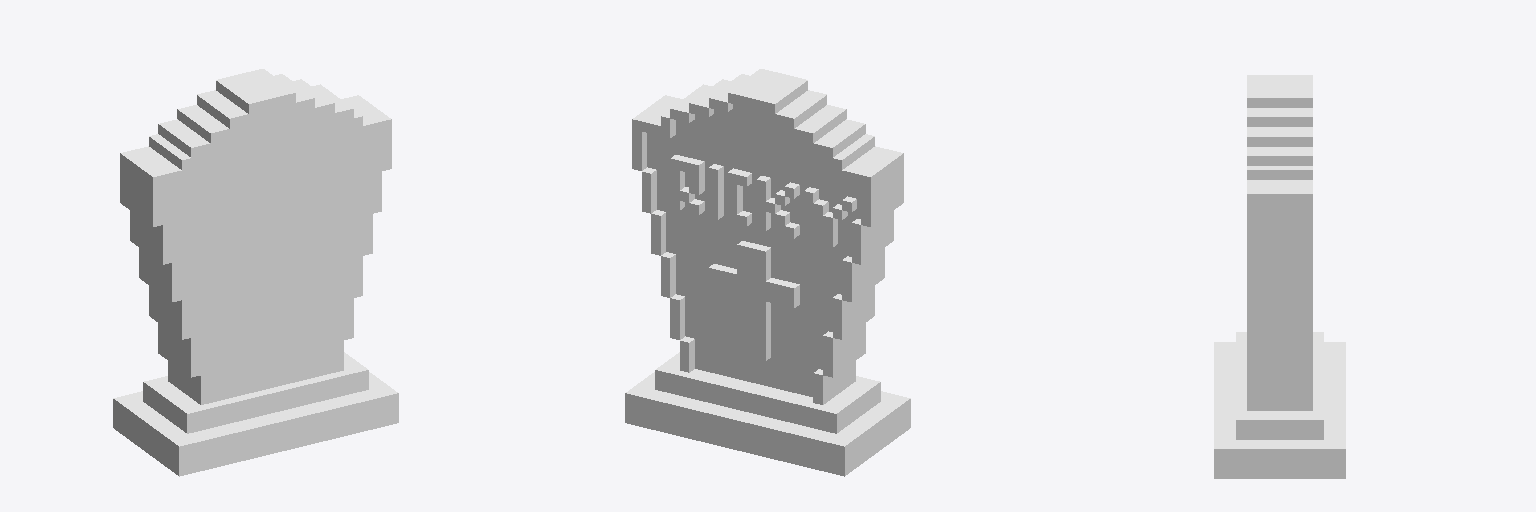
Rendered from tumba_ricky.obj.
3 views of the same model, side by side, from view 1: azimuth 30°, elevation 25°; view 2: azimuth 150°, elevation 25°; view 3: azimuth 270°, elevation 25° (orthographic).
Visible parts, largest first — view 1: object 1; view 2: object 1; view 3: object 1.
Boxes of the visible parts, x1=… form: object 1: x1=113, y1=69, x2=398, y2=476; object 1: x1=625, y1=69, x2=910, y2=476; object 1: x1=1214, y1=75, x2=1345, y2=478.
Size of the model in its own units: 2.5 by 3.4 by 1.2.